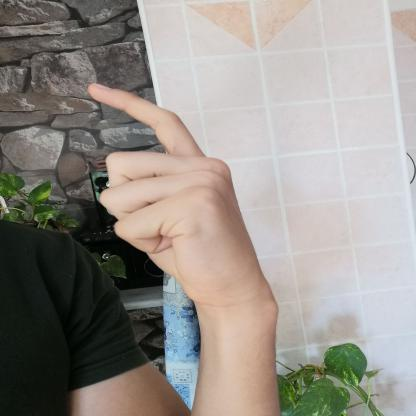RAA: (72, 70, 283, 308)
